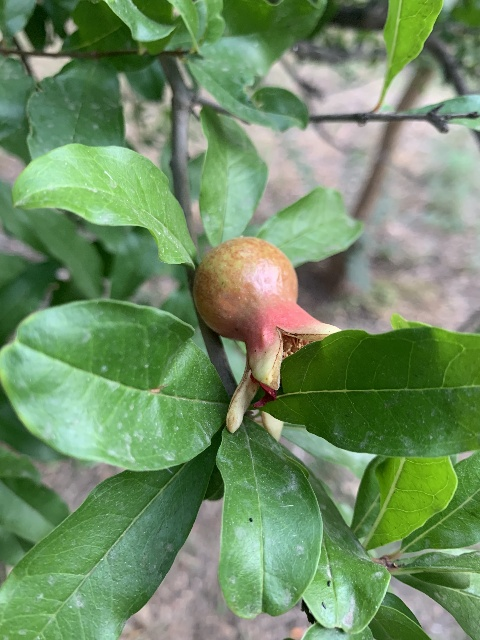early-fruit: (193, 236, 339, 435)
